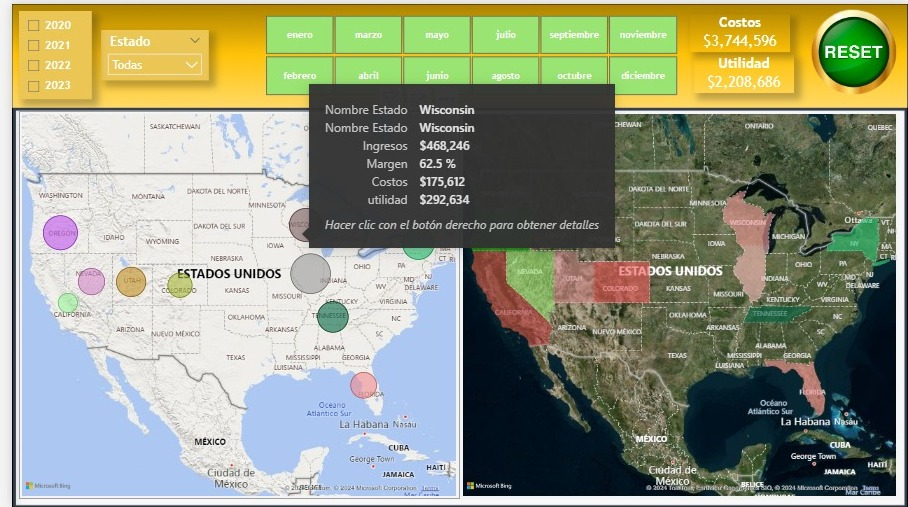

This screenshot's page, from the dashboard's own definition file:
{"tool":"powerbi","page":{"name":"Mapas","canvas":[1280,720],"ordinal":7},"visuals":[{"type":"slicer","fields":{"Values":["Ventas.Nombre Estado"]},"box":[126.5,37.5,154.3,72.3],"z":0},{"type":"slicer","fields":{"Values":["calendario.fecha .Variación.Jerarquía de fechas.Mes"]},"box":[337.8,9.7,636.6,126.5],"z":1000},{"type":"card","title":"Costos","fields":{"Values":["Sum(Ventas.Ingresos)"]},"box":[968.8,13.9,143.2,54.2],"z":2000},{"type":"slicer","fields":{"Values":["calendario.fecha .Variación.Jerarquía de fechas.Año"]},"box":[9.7,9.7,104.2,126.5],"z":3000},{"type":"image","box":[1137,0,130.7,136.2],"z":4000},{"type":"card","title":"Utilidad","fields":{"Values":["Sum(Ventas.utilidad)"]},"box":[974.6,72.8,142.7,54.2],"z":5000},{"type":"map","fields":{"Category":["Ventas.Nombre Estado"],"Size":["Medidas DAX.Ingresos"],"Series":["Ventas.Nombre Estado"]},"box":[9.7,152.9,629.7,554.6],"z":6000},{"type":"filledMap","fields":{"Category":["Ventas.Nombre Estado"],"Series":["Ventas.Nombre Estado"]},"box":[639.4,152.9,628.3,554.6],"z":7000}]}

Visuals, with their boxes in screenshot pixels (x1, y1, x2, y2), scaled from the page's 1280x720 canvas onto the 908x507 screenshot:
slicer - Ventas.Nombre Estado: bbox=(90, 26, 199, 77)
slicer - calendario.fecha .Variación.Jerarquía de fechas.Mes: bbox=(240, 7, 691, 96)
"Costos" card: bbox=(687, 10, 789, 48)
slicer - calendario.fecha .Variación.Jerarquía de fechas.Año: bbox=(7, 7, 81, 96)
image: bbox=(807, 0, 899, 96)
"Utilidad" card: bbox=(691, 51, 793, 89)
map - Ventas.Nombre Estado x Medidas DAX.Ingresos: bbox=(7, 108, 454, 498)
filledMap - Ventas.Nombre Estado x Ventas.Nombre Estado: bbox=(454, 108, 899, 498)
